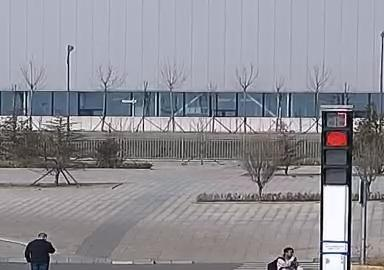red: (324, 128, 349, 150)
redtime: (327, 109, 348, 127)
